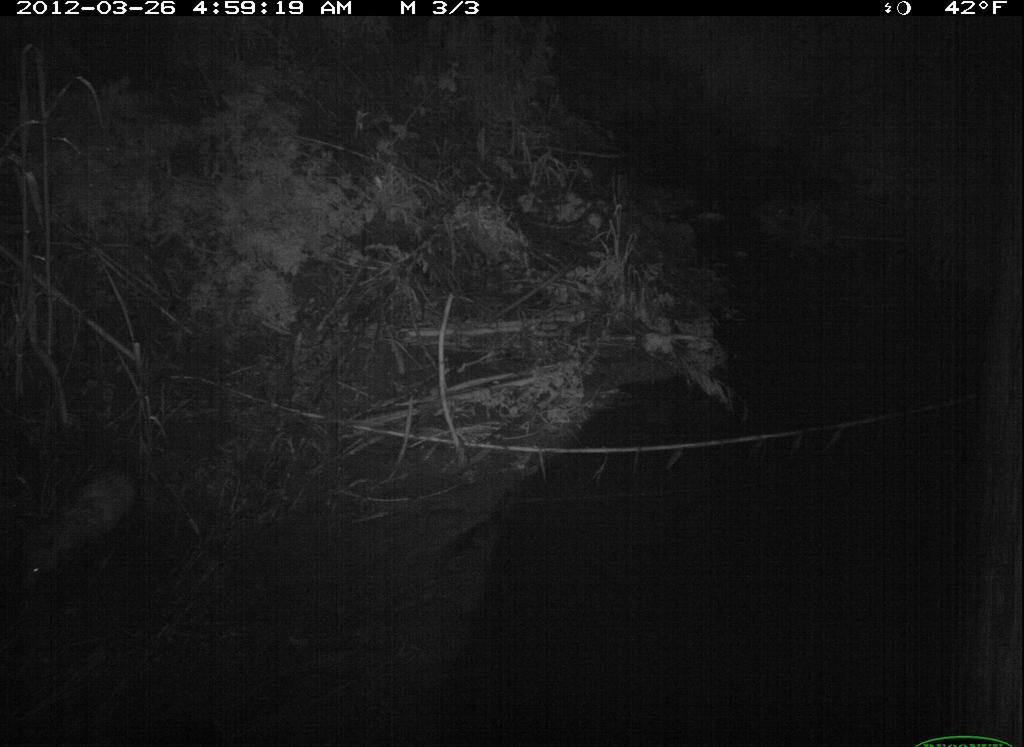opossum: (12, 428, 162, 607)
